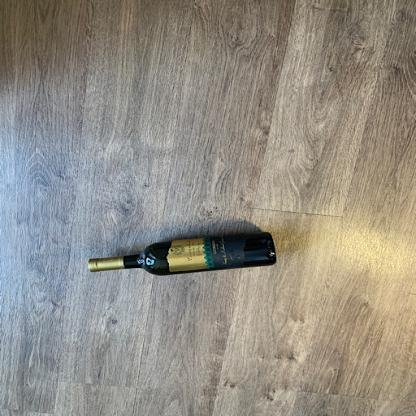trash: (84, 231, 278, 282)
